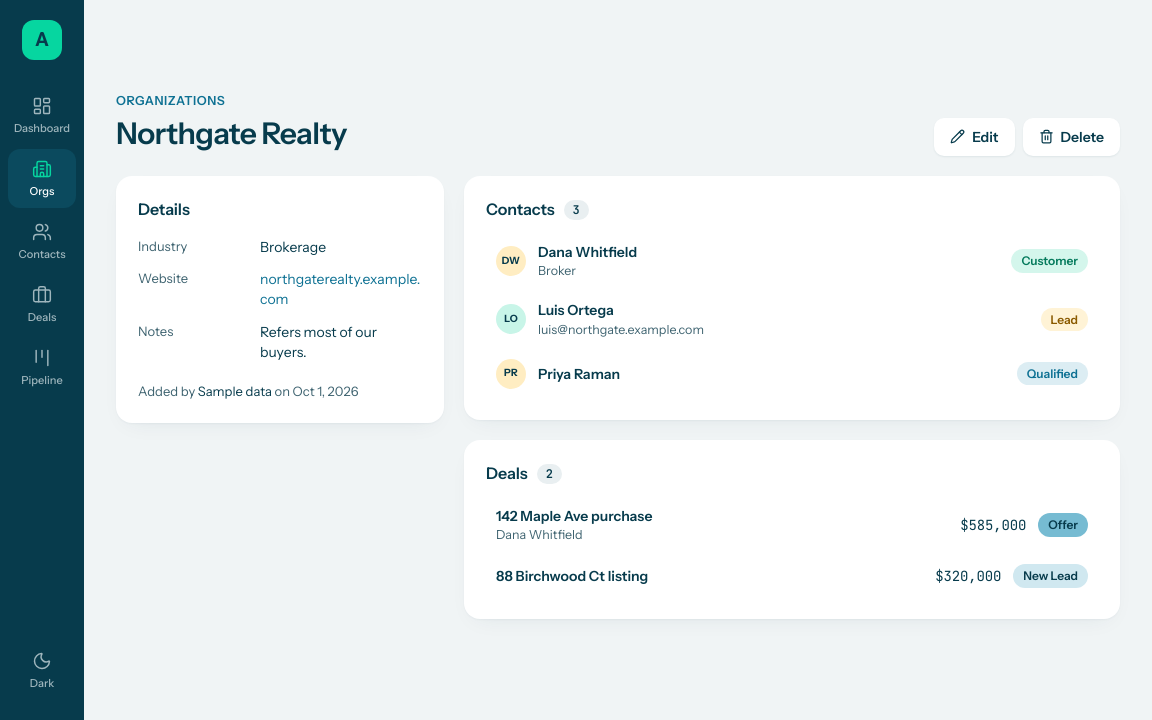
Test: an organization's page › lets the user try again when the delete counts can't load
This screenshot has width=1152, height=720.
Click the button "Delete".
click(1071, 137)  # box [1022,118,1120,156]
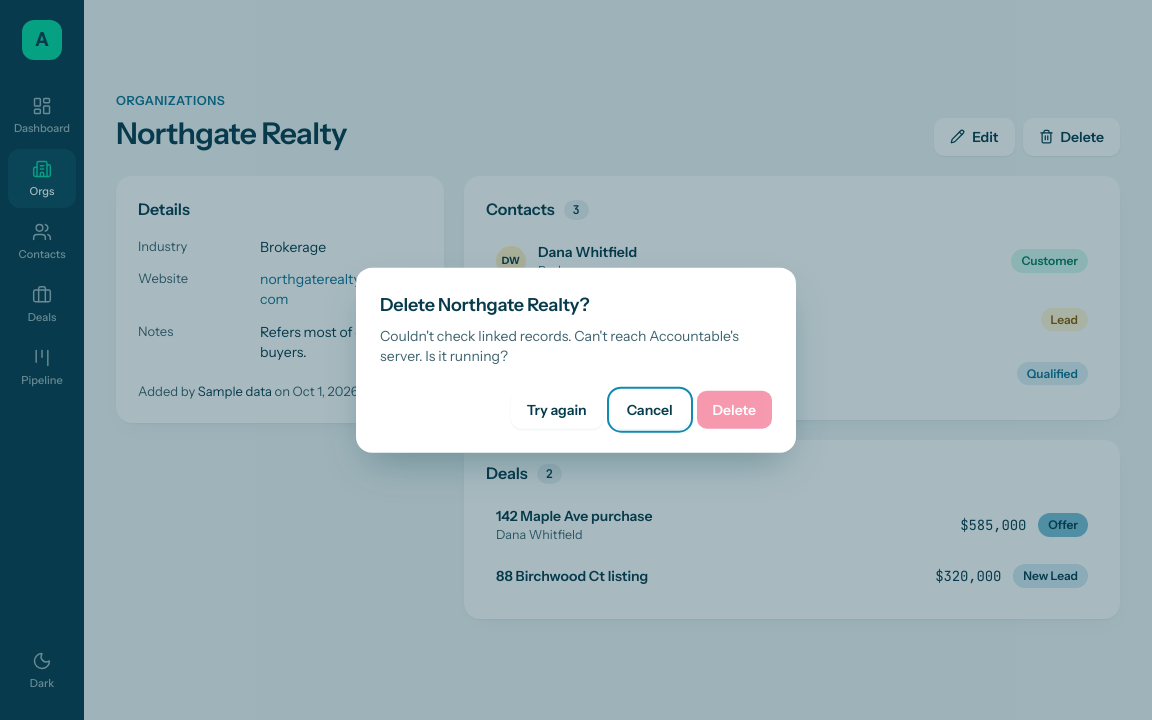
Result: the text "Couldn't check linked records" is shown at [380,327,739,365]
Result: the button "Delete" is disabled at [696,390,772,428]
Click the button "Try again".
click(557, 409)  # box [511,390,603,428]
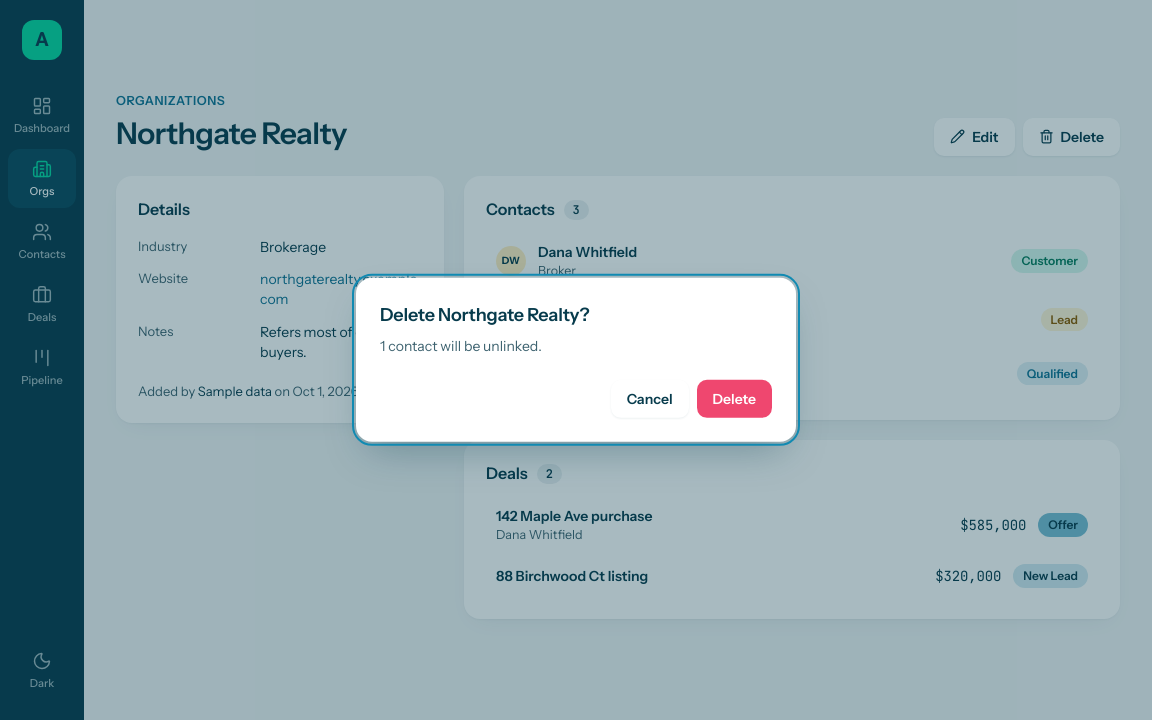
Result: the text "1 contact will be unlinked." is shown at [380,337,542,355]
